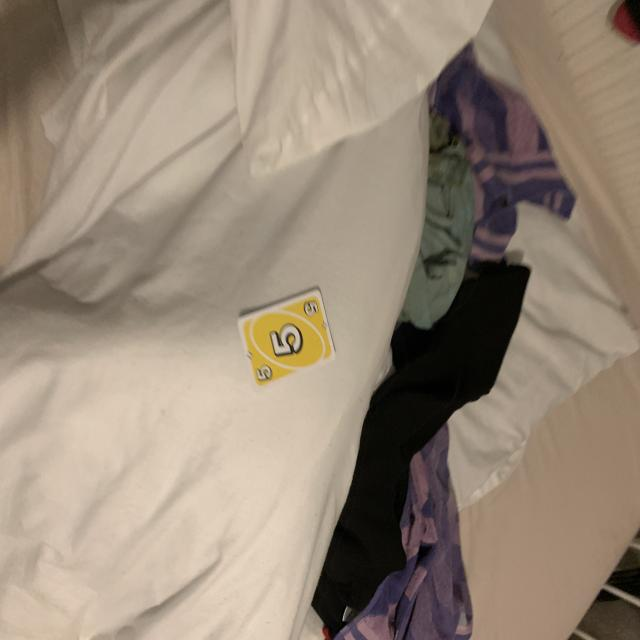lyellow-5: (301, 298, 320, 321)
